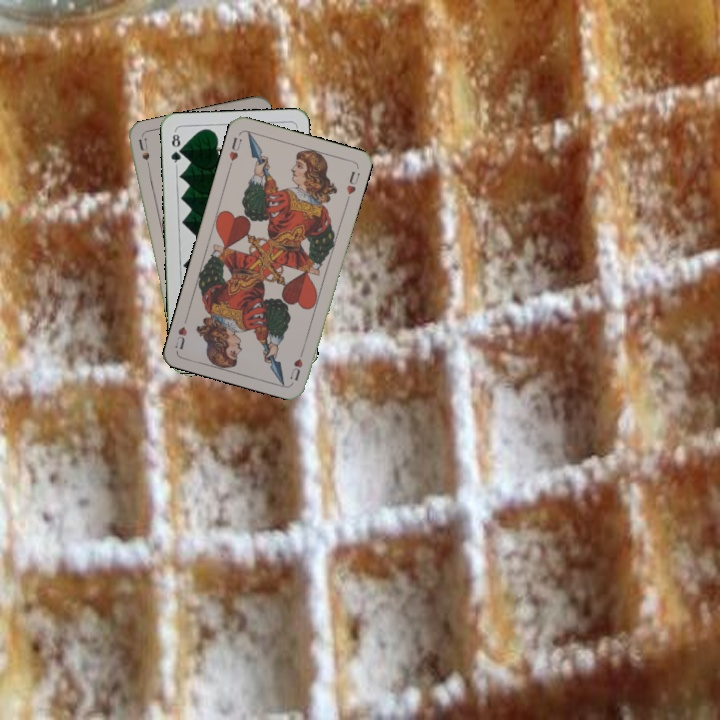G8: (167, 128, 184, 168)
HU: (286, 345, 307, 383), (225, 133, 244, 170)
SU: (134, 135, 153, 176)
